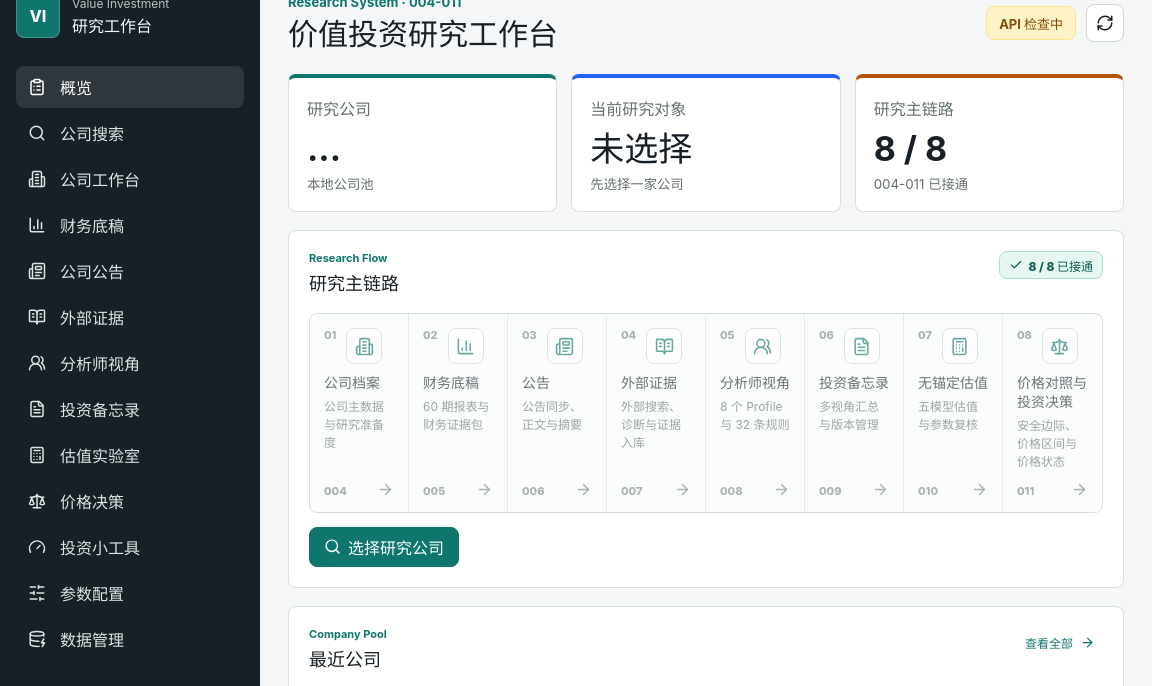
Test: App › archives investment memo history without exposing edit or trade actions
Click the button "公司搜索". click: (130, 133)
box: [16, 112, 244, 154]
(page scrolled)
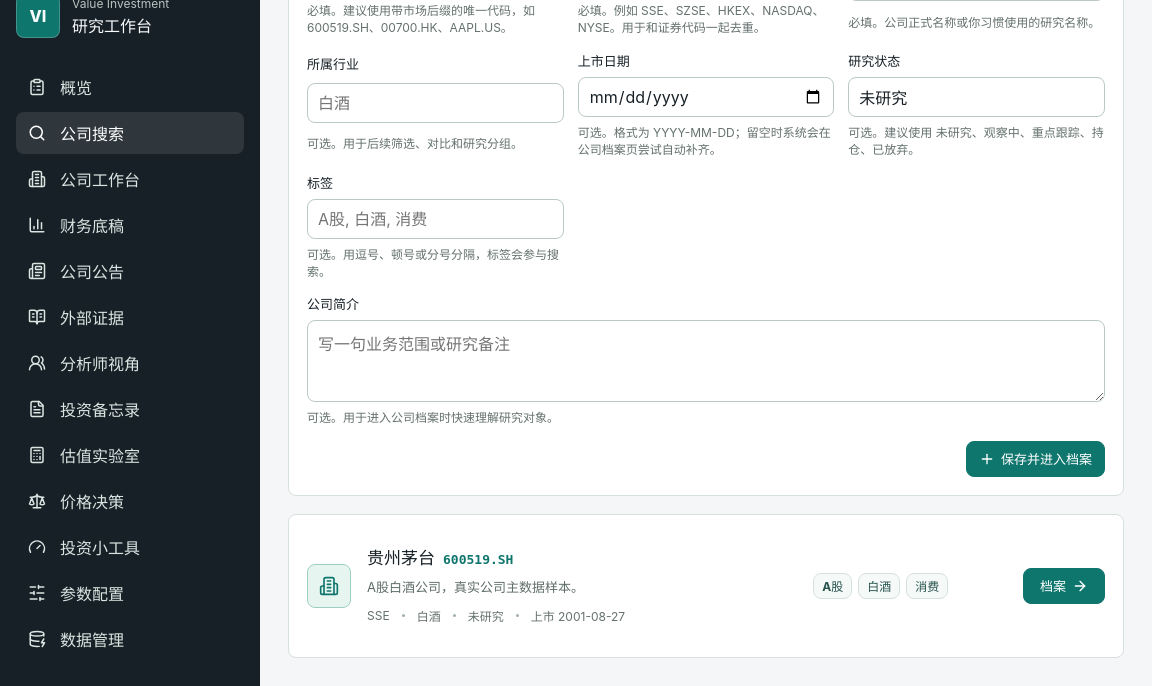
Expected: the heading "贵州茅台" is shown, [367, 547, 435, 570]
Click the button "档案". click: (1064, 586)
box: [1023, 568, 1105, 604]
(page scrolled)
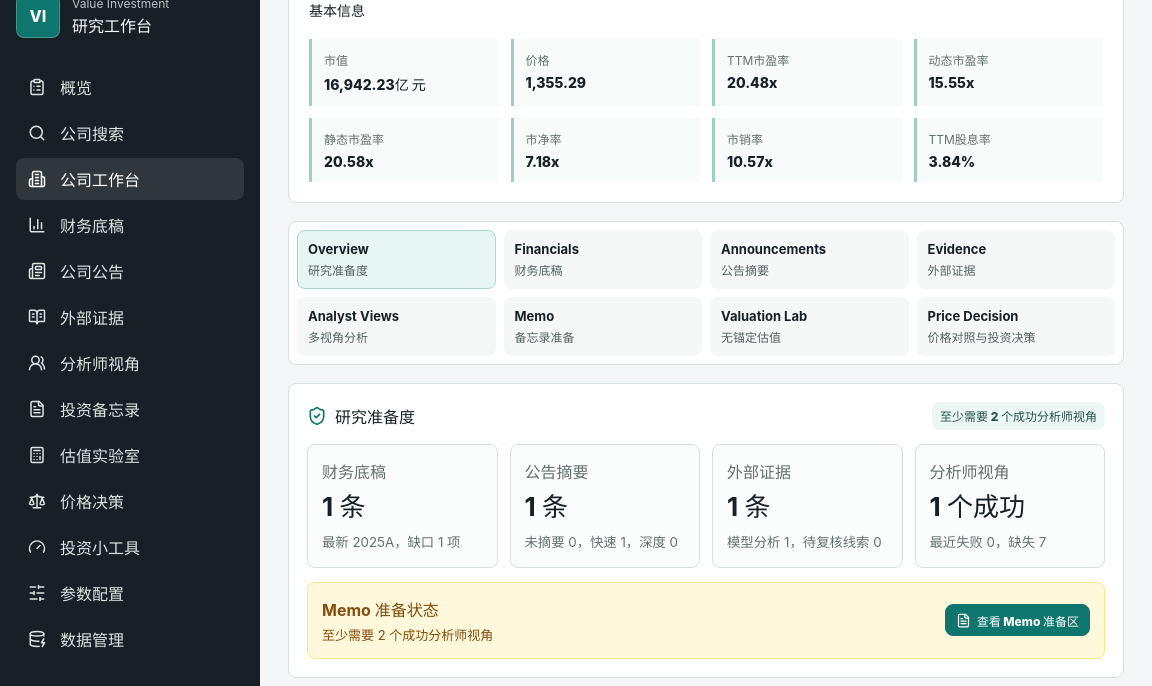
Click the button "Memo 备忘录准备". click: (603, 326)
box: [504, 297, 702, 356]
(page scrolled)
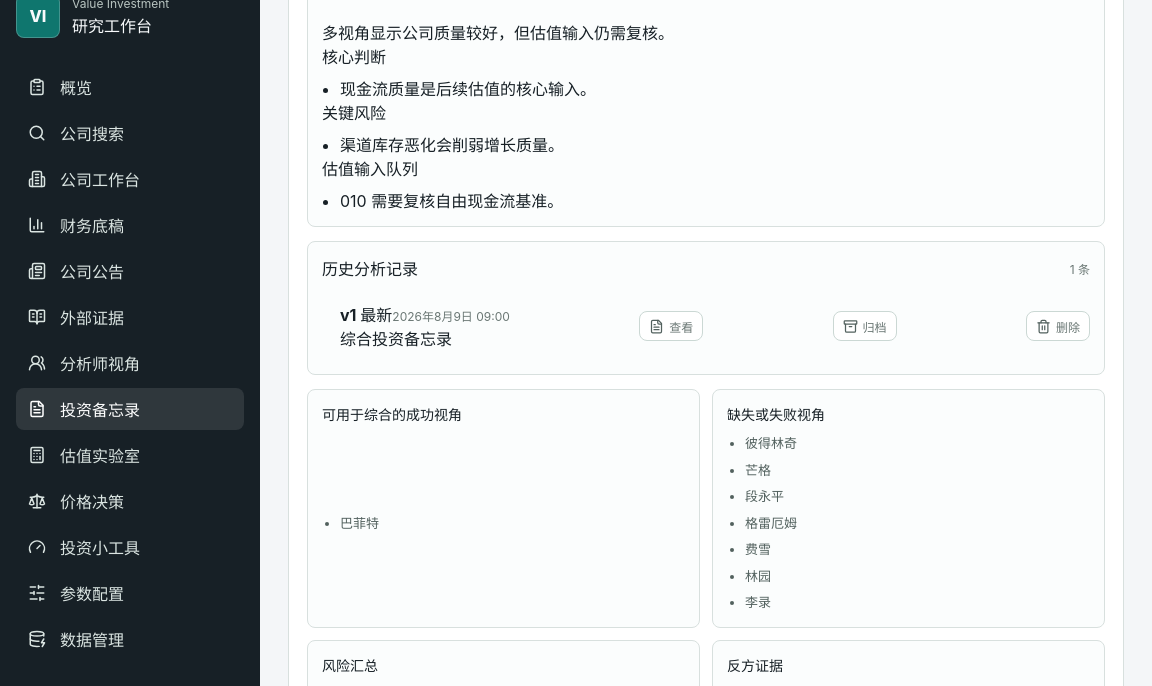
Click the button with aria-label "归档备忘录 v1". click: (865, 326)
box: [833, 312, 897, 342]
(page scrolled)
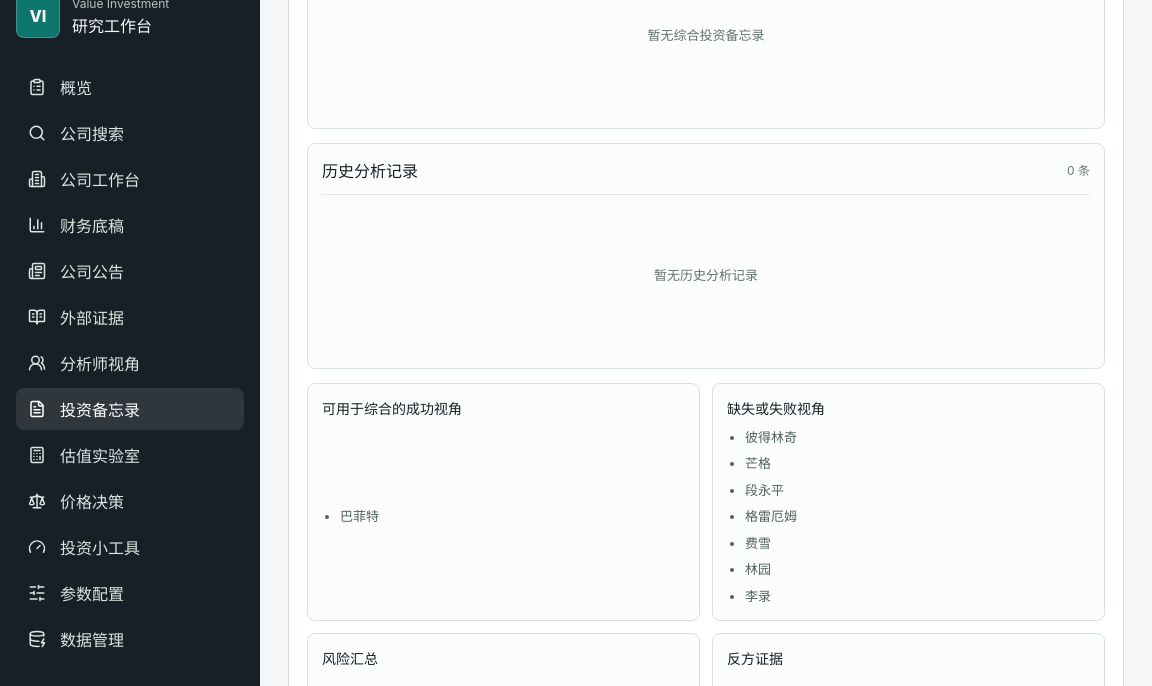
Expected: the text "暂无历史分析记录" is shown, [322, 194, 1090, 354]
